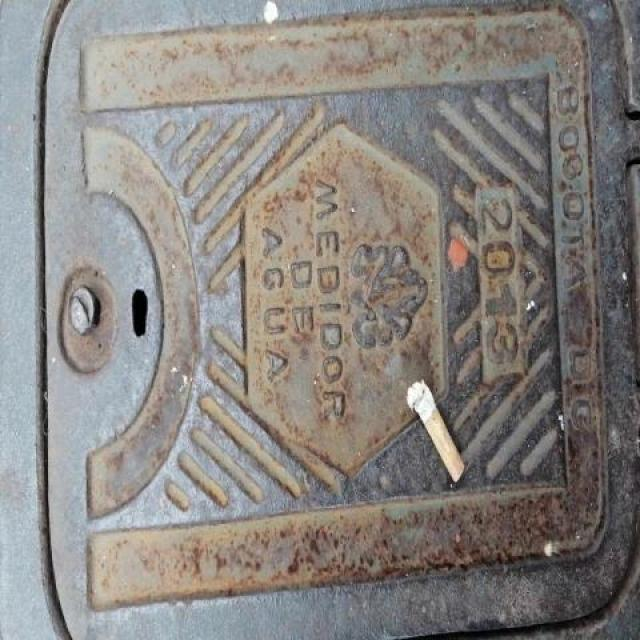non-organic waste: (400, 375, 469, 488)
